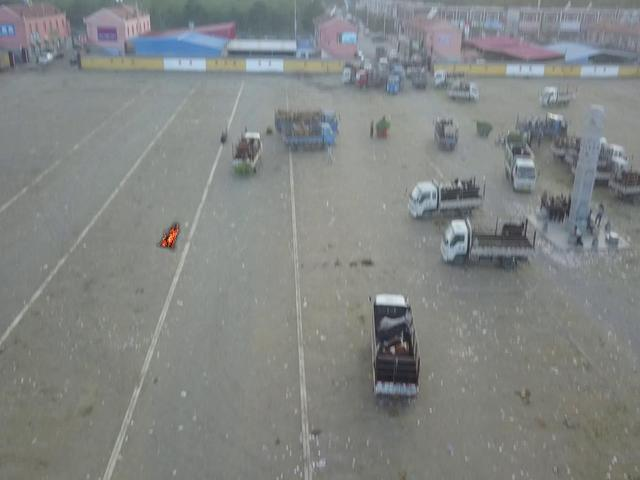fire: (157, 217, 181, 251)
